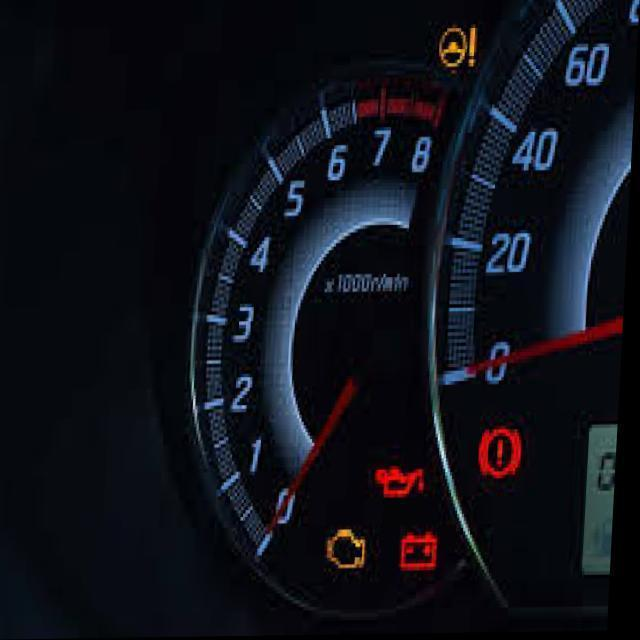Electronic Power Steering: (435, 24, 475, 72)
